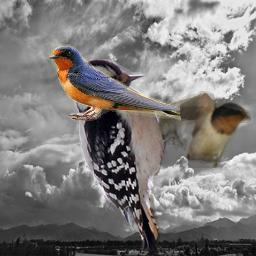Swallow: (46, 43, 181, 125), (155, 91, 251, 168)
Woodpecker: (72, 59, 187, 256)
